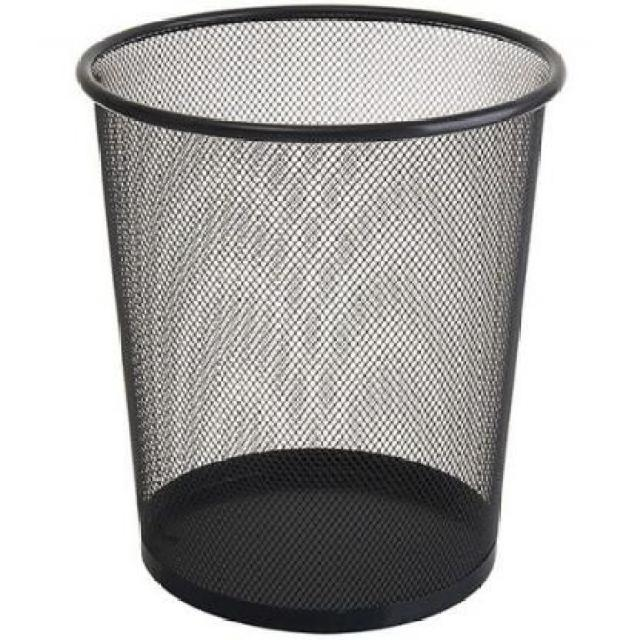dustbin: (69, 0, 574, 640)
